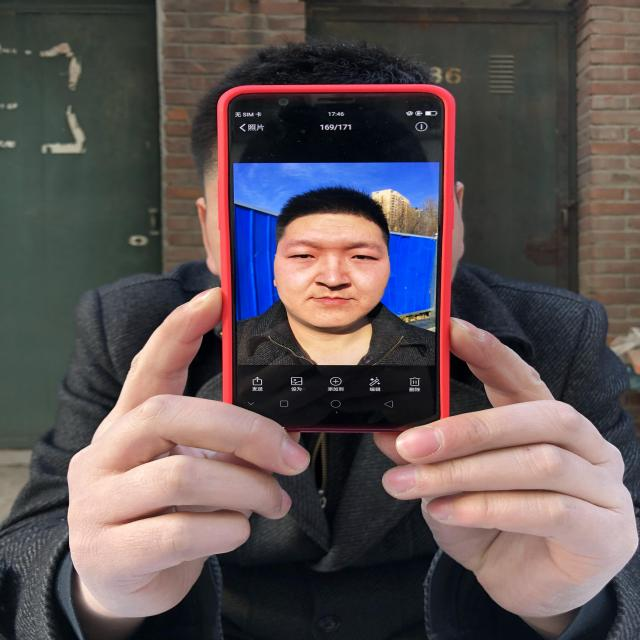device: (214, 81, 460, 437)
